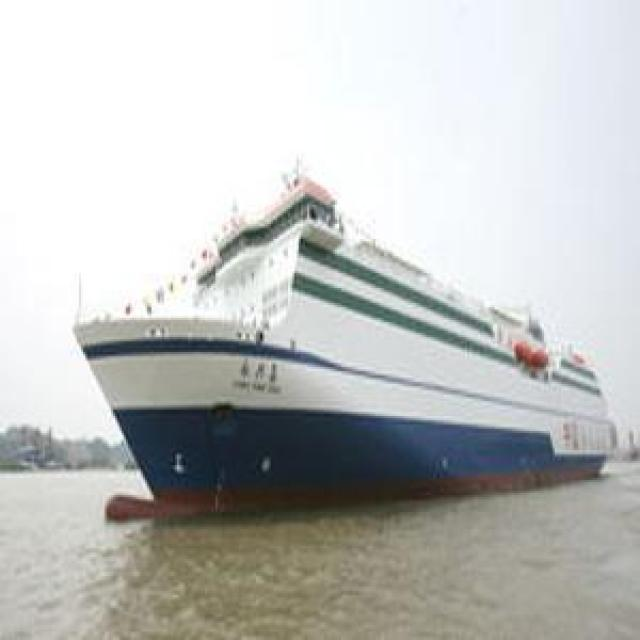passenger ship: (68, 172, 612, 500)
